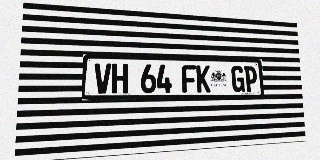4: (156, 64, 172, 93)
6: (141, 64, 156, 93)
F: (182, 65, 196, 93)
G: (231, 66, 245, 92)
H: (112, 63, 128, 93)
K: (196, 65, 211, 92)
P: (244, 66, 258, 92)
V: (94, 63, 111, 94)
